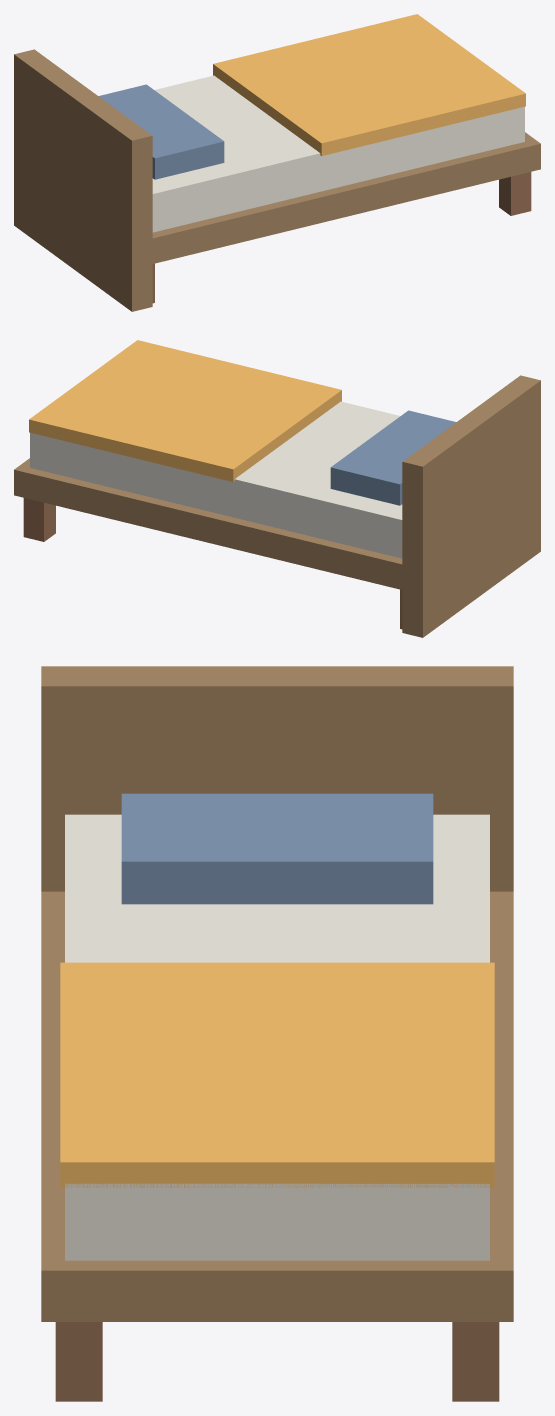
Rendered from interior_bed.glb.
3 renders of one model, top to bottom at view 1: azimuth 30°, elevation 25°; view 2: azimuth 150°, elevation 25°; view 3: azimuth 270°, elevation 25°, orthographic. The views are drawn at different scales.
Parts seen in each view (by area): view 1: blanket, headboard, mattress, frame, pillow, leg.002; view 2: blanket, headboard, mattress, frame, pillow, leg.003; view 3: blanket, mattress, headboard, frame, pillow, leg.002, leg.003.
Part boxes in pixels (x1,y1,x2,y2): blanket: [213, 14, 525, 156]; headboard: [14, 49, 152, 311]; mattress: [152, 75, 524, 232]; frame: [14, 132, 540, 268]; pillow: [98, 84, 224, 179]; leg.002: [499, 172, 531, 215]; blanket: [29, 340, 341, 482]; headboard: [402, 375, 540, 637]; mattress: [30, 401, 402, 558]; frame: [14, 458, 540, 594]; pillow: [330, 410, 456, 505]; leg.003: [23, 498, 55, 541]; blanket: [60, 962, 494, 1187]; mattress: [65, 814, 489, 1260]; headboard: [41, 666, 513, 891]; frame: [41, 891, 513, 1321]; pillow: [121, 793, 433, 904]; leg.002: [55, 1322, 102, 1401]; leg.003: [452, 1322, 499, 1401].
Bounding box in the file's own units: 2 × 0.8 × 1.
